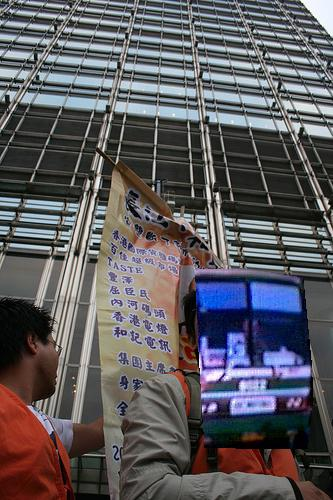tampered: (196, 269, 313, 449)
